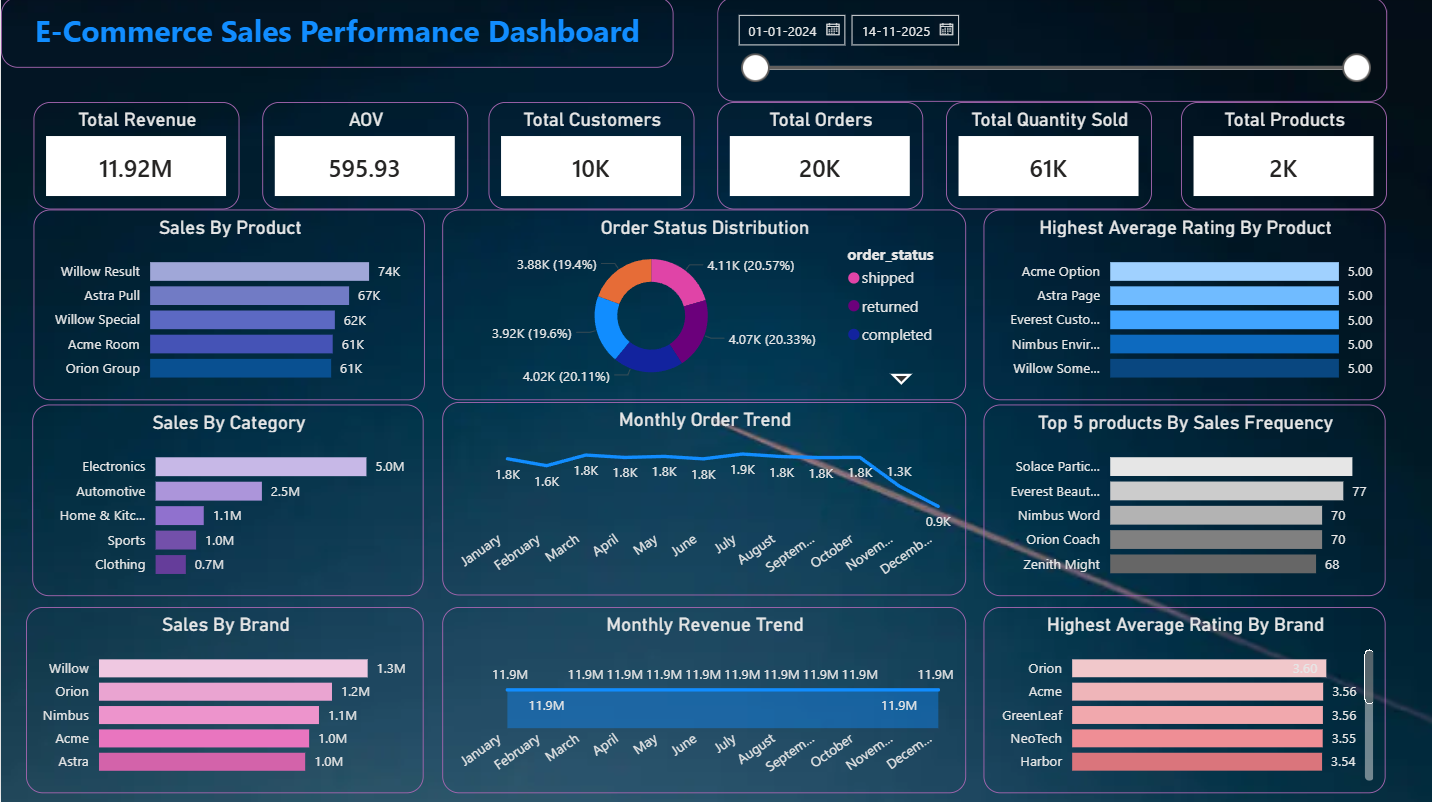

This screenshot's page, from the dashboard's own definition file:
{"tool":"powerbi","page":{"name":"Sales Performance","canvas":[1280,720],"ordinal":0},"visuals":[{"type":"textbox","box":[0,0,601,63.1],"z":0},{"type":"cardVisual","title":"Total Revenue","fields":{"Data":["Order Items.Total Revenue"]},"box":[28.8,93.3,183.9,96.1],"z":1000},{"type":"cardVisual","title":"Total Orders","fields":{"Data":["Orders.Total Orders"]},"box":[639.5,93.3,183.9,96.1],"z":2000},{"type":"cardVisual","title":"Total Customers","fields":{"Data":["Users.Total Customers"]},"box":[435,93.3,183.9,96.1],"z":3000},{"type":"cardVisual","title":"Total Products","fields":{"Data":["Products.Total Products"]},"box":[1053.9,93.3,183.9,96.1],"z":4000},{"type":"cardVisual","title":"AOV","fields":{"Data":["Orders.Average Order Value"]},"box":[233.3,93.3,183.9,96.1],"z":5000},{"type":"cardVisual","title":"Total Quantity Sold","fields":{"Data":["Order Items.Total Quantity Sold"]},"box":[843.9,93.3,183.9,96.1],"z":6000},{"type":"clusteredBarChart","title":"Sales By Product","fields":{"Category":["Products.product_name"],"Y":["Order Items.Total Revenue"]},"box":[28.8,189.4,349.9,170.2],"z":7000},{"type":"clusteredBarChart","title":"Sales By Brand","fields":{"Category":["Products.brand"],"Y":["Order Items.Total Revenue"]},"box":[22,544.8,355.4,166],"z":8000},{"type":"clusteredBarChart","title":"Sales By Category","fields":{"Category":["Products.category"],"Y":["Order Items.Total Revenue"]},"box":[27.4,363.6,349.9,171.5],"z":9000},{"type":"areaChart","title":"Monthly Revenue Trend","fields":{"Category":["Orders.order_date.Variation.Date Hierarchy.Month"],"Y":["Order Items.Total Revenue"]},"box":[393.8,544.8,467.9,166],"z":10000},{"type":"lineChart","title":"Monthly Order Trend","fields":{"Category":["Orders.order_date.Variation.Date Hierarchy.Month"],"Y":["Orders.Total Orders"]},"box":[393.8,362.3,467.9,172.9],"z":11000},{"type":"clusteredBarChart","title":"Highest Average Rating By Product","fields":{"Category":["Products.product_name"],"Y":["Avg(Reviews.rating)"]},"box":[878.2,189.4,359.5,170.2],"z":12000},{"type":"clusteredBarChart","title":"Highest Average Rating By Brand","fields":{"Y":["Avg(Reviews.rating)"],"Category":["Products.brand"]},"box":[878.2,544.8,359.5,166],"z":13000},{"type":"donutChart","title":"Order Status Distribution","fields":{"Category":["Orders.order_status"],"Y":["CountNonNull(Orders.order_id)"]},"box":[393.8,189.4,467.9,170.2],"z":14000},{"type":"slicer","fields":{"Values":["Orders.order_date"]},"box":[639.5,0,598.3,93.3],"z":15000},{"type":"clusteredBarChart","title":"Top 5 products By Sales Frequency","fields":{"Category":["Products.product_name"],"Y":["Order Items.Total Sales Frequency"]},"box":[877.7,364,359.6,170.8],"z":16000}]}

Visuals, with their boxes in screenshot pixels (x1, y1, x2, y2), scaled from the page's 1280x720 canvas onto the 1432x802 screenshot:
textbox: locate(0, 0, 672, 70)
"Total Revenue" cardVisual: locate(32, 104, 238, 211)
"Total Orders" cardVisual: locate(715, 104, 921, 211)
"Total Customers" cardVisual: locate(487, 104, 692, 211)
"Total Products" cardVisual: locate(1179, 104, 1385, 211)
"AOV" cardVisual: locate(261, 104, 467, 211)
"Total Quantity Sold" cardVisual: locate(944, 104, 1150, 211)
"Sales By Product" clusteredBarChart: locate(32, 211, 424, 401)
"Sales By Brand" clusteredBarChart: locate(25, 607, 422, 792)
"Sales By Category" clusteredBarChart: locate(31, 405, 422, 596)
"Monthly Revenue Trend" areaChart: locate(441, 607, 964, 792)
"Monthly Order Trend" lineChart: locate(441, 404, 964, 596)
"Highest Average Rating By Product" clusteredBarChart: locate(982, 211, 1385, 401)
"Highest Average Rating By Brand" clusteredBarChart: locate(982, 607, 1385, 792)
"Order Status Distribution" donutChart: locate(441, 211, 964, 401)
slicer - Orders.order_date: locate(715, 0, 1385, 104)
"Top 5 products By Sales Frequency" clusteredBarChart: locate(982, 405, 1384, 596)
